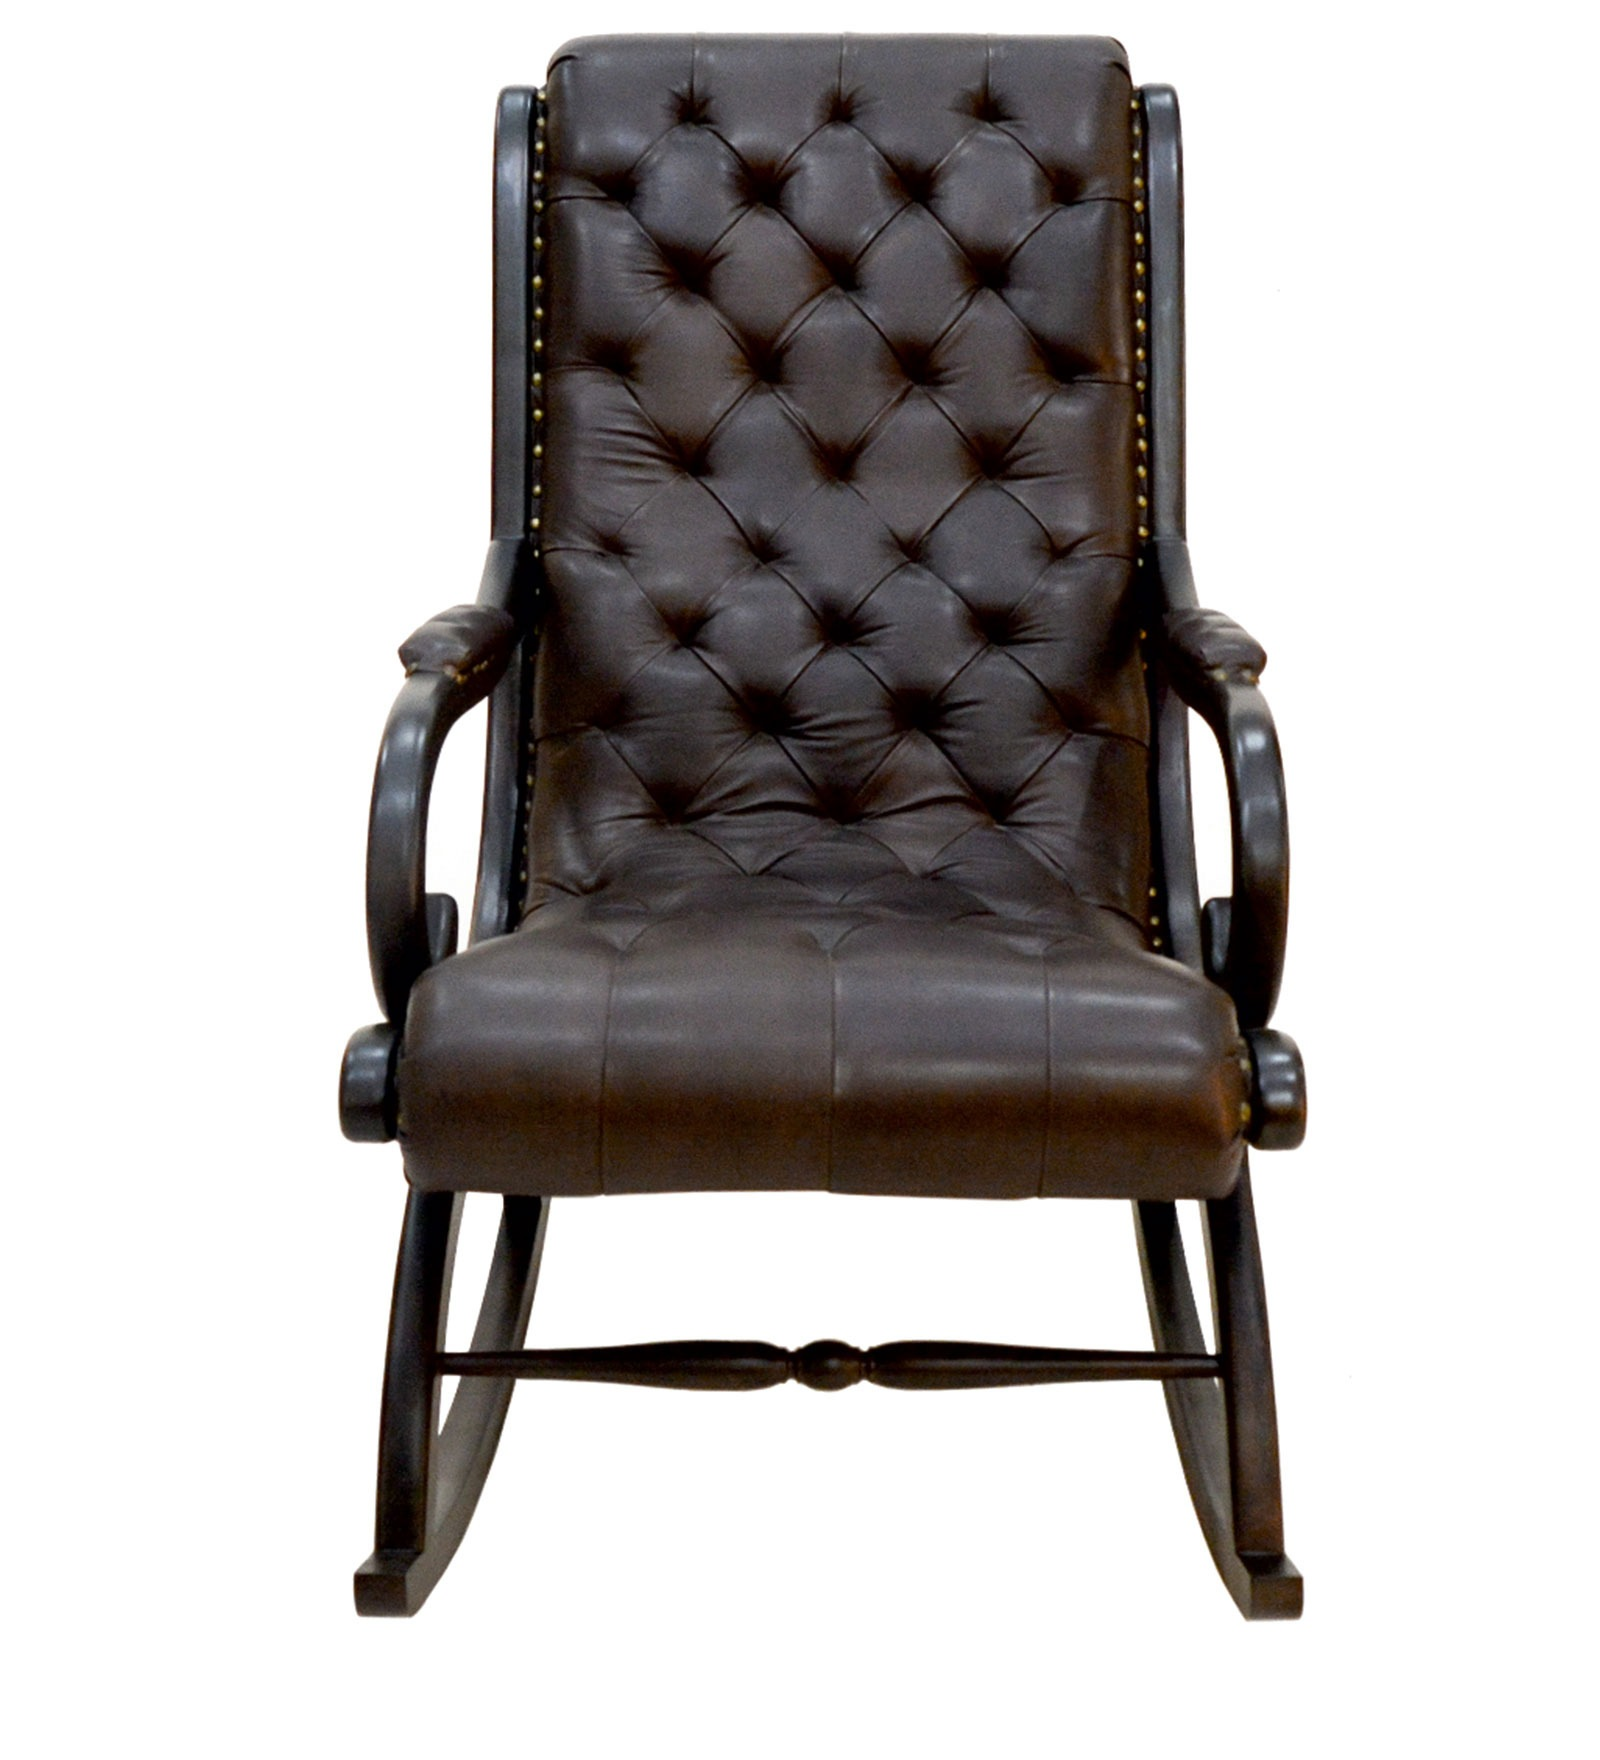Rapheal Rocking Chair in Dark Brown Pure Italian Leather by INDOORS: (204, 35, 1456, 1647)
